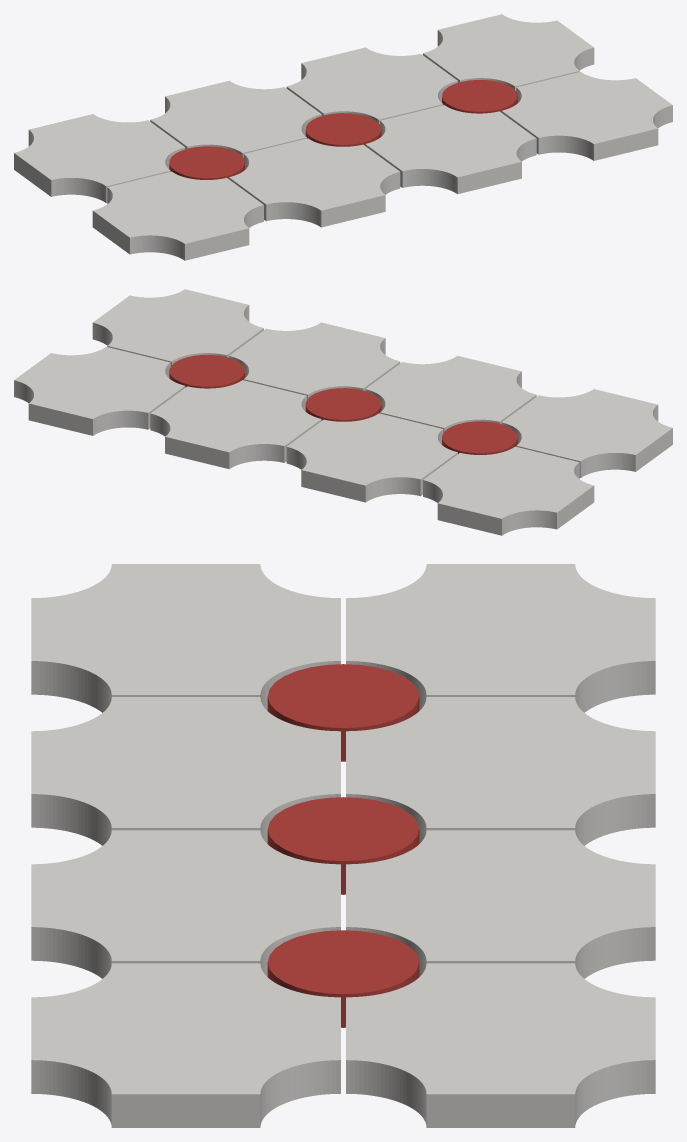
File: DALMOULIN.glb
3 renders of one model, top to bottom at view 1: azimuth 30°, elevation 25°; view 2: azimuth 150°, elevation 25°; view 3: azimuth 270°, elevation 25°, orthographic. The views are drawn at different scales.
Visible parts, largest first — view 1: corps (×8), insert-0-1, insert-0-2, insert-0-0; view 2: corps (×8), insert-0-1, insert-0-2, insert-0-0; view 3: corps (×8), insert-0-2, insert-0-0, insert-0-1.
Part boxes in pixels (x1,y1,x2,y2): corps (×8): (14,14,672,260); insert-0-1: (305,113,381,146); insert-0-2: (442,80,517,113); insert-0-0: (169,146,244,179); corps (×8): (14,289,672,535); insert-0-1: (305,388,381,421); insert-0-2: (169,355,244,388); insert-0-0: (442,421,517,454); corps (×8): (31,564,655,1127); insert-0-2: (267,930,419,1027); insert-0-0: (267,664,419,761); insert-0-1: (267,797,419,894).
Size of the model in its own units: 1.01 by 0.03 by 0.504.
